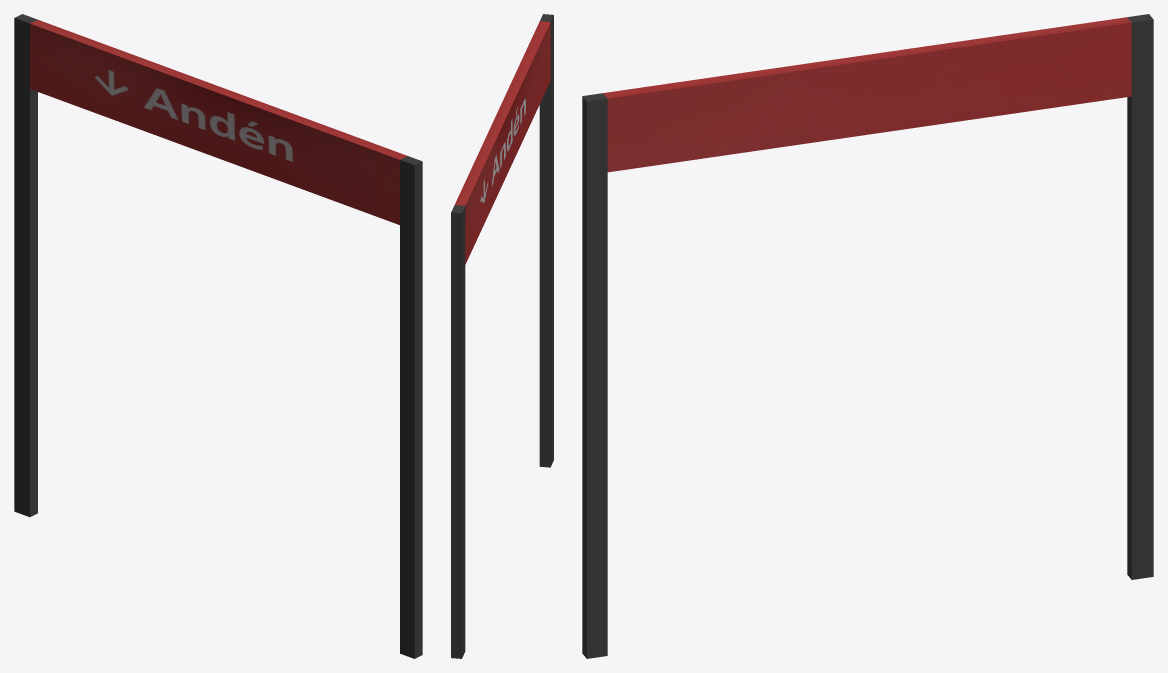
File: cartel_anden.fbx
3 renders of one model, left to right at view 1: azimuth 30°, elevation 25°; view 2: azimuth 150°, elevation 25°; view 3: azimuth 270°, elevation 25°, orthographic. The views are drawn at different scales.
Parts seen in each view (by area): view 1: Cartel_Anden; view 2: Cartel_Anden; view 3: Cartel_Anden.
Part boxes in pixels (x1=…): Cartel_Anden: x1=14, y1=14, x2=422, y2=658; Cartel_Anden: x1=451, y1=14, x2=553, y2=658; Cartel_Anden: x1=582, y1=14, x2=1153, y2=658.
Size of the model in its own units: 124 by 366 by 340.
Materials: 2 (1 with a texture image).
